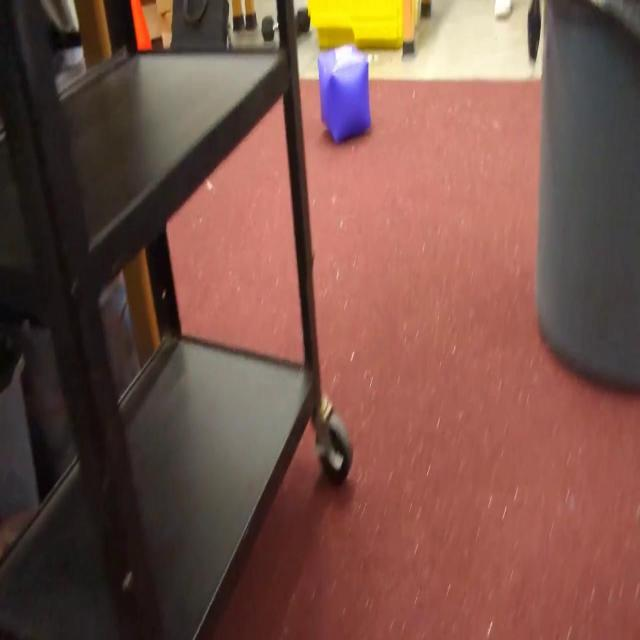frc_cube: (316, 44, 371, 144)
